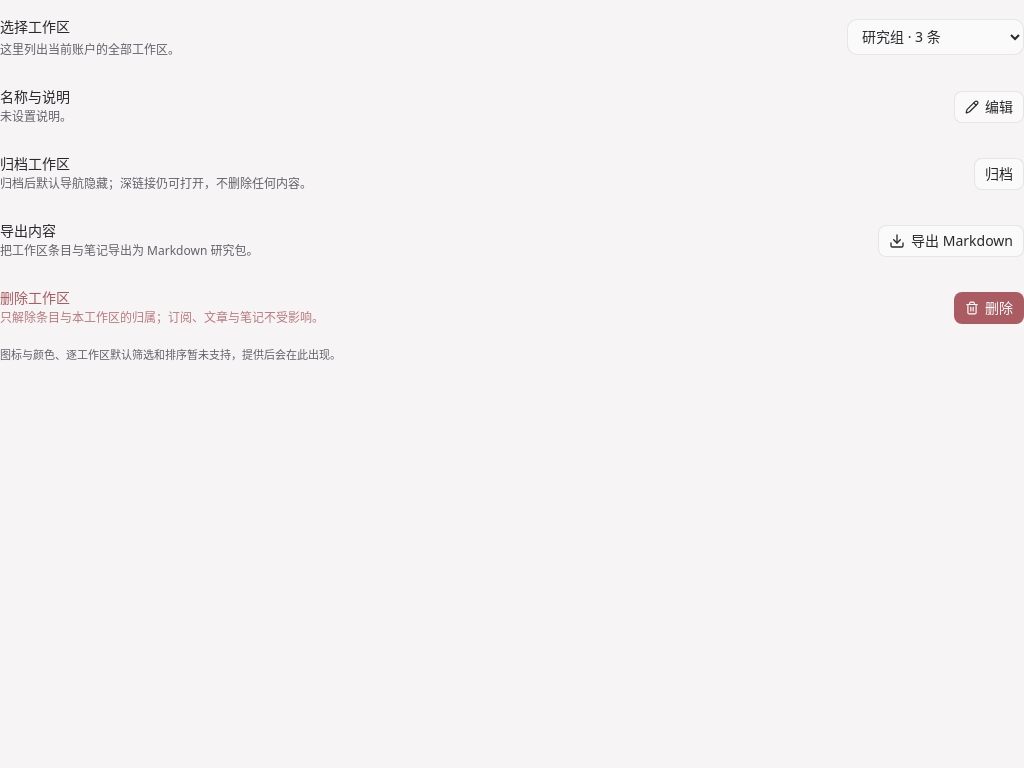
Test: 工作区设置面（R17） › 删除需确认且说明影响（只解除归属，不删来源内容）→ DELETE → 列表回显
The image size is (1024, 768).
What coordinates should you click on to do the following:
click the button "删除"
I would click on:
 (989, 308)
Its box is [954,292,1023,324].
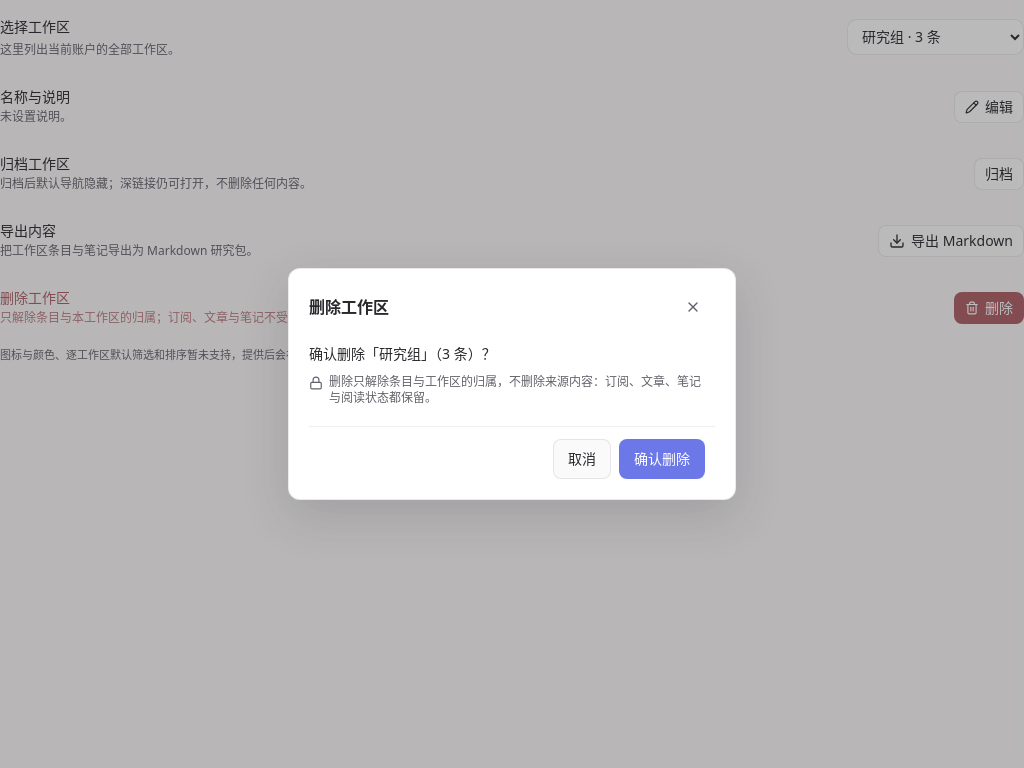
Expected: the text "删除只解除条目与工作区的归属，不删除来源内容：订阅、文章、笔记与阅读状态都保留。" is shown, [309,374,705,406]
What coordinates should you click on to do the following:
click the button "确认删除"
I would click on:
 (662, 459)
Its box is [619,439,705,479].
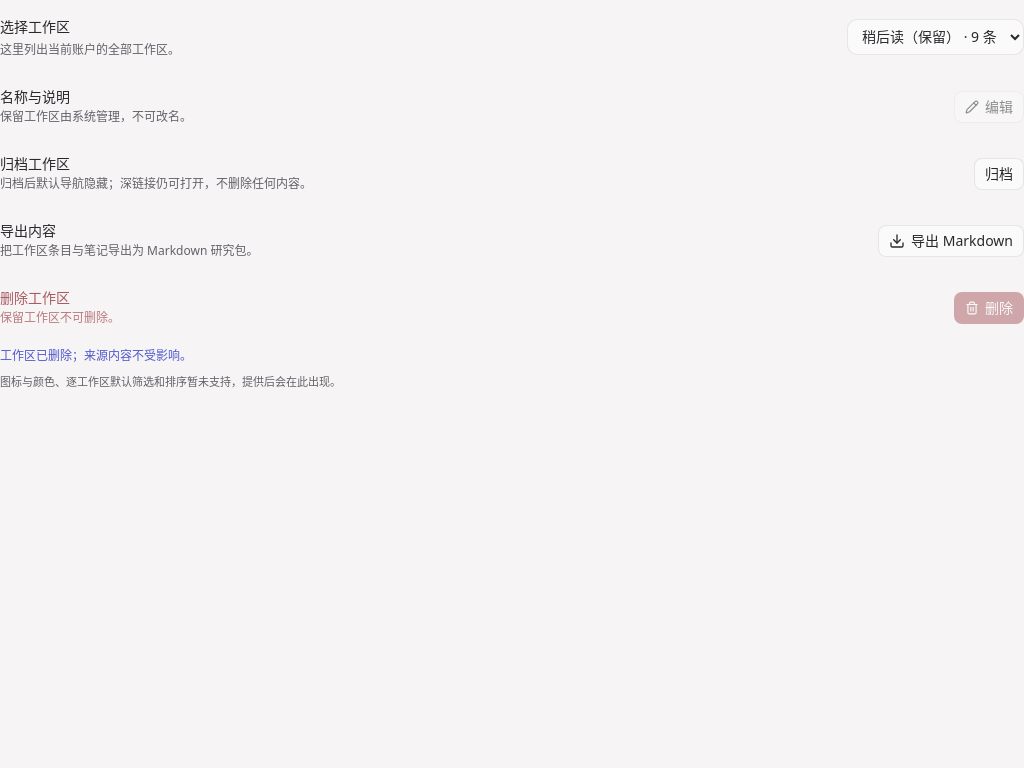
Expected: the text "工作区已删除；来源内容不受影响。" is shown, [0,346,192,364]
Expected: the dropdown named "选择工作区" shows "稍后读（保留） · 9 条", [847,19,1023,55]
Expected: the button "编辑" is disabled, [954,91,1023,123]
